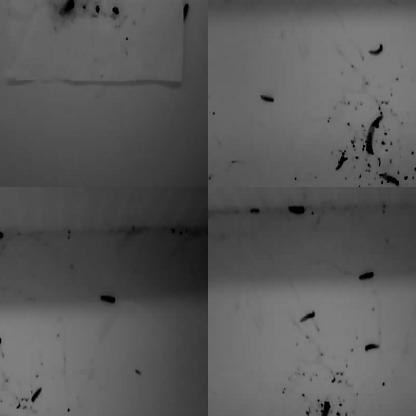PtecticusTenebrifer: (380, 172, 398, 186), (289, 203, 306, 217), (368, 42, 384, 56), (101, 293, 117, 307), (318, 399, 330, 416), (299, 312, 315, 324), (357, 271, 375, 281), (32, 386, 42, 402), (365, 343, 380, 353), (183, 2, 189, 24), (261, 93, 274, 103), (0, 228, 9, 242), (16, 0, 35, 6), (0, 5, 8, 17), (0, 267, 8, 279), (0, 333, 7, 346), (382, 0, 399, 4), (215, 0, 230, 4), (208, 239, 214, 249), (189, 0, 197, 7), (156, 0, 173, 3), (0, 0, 6, 6)
